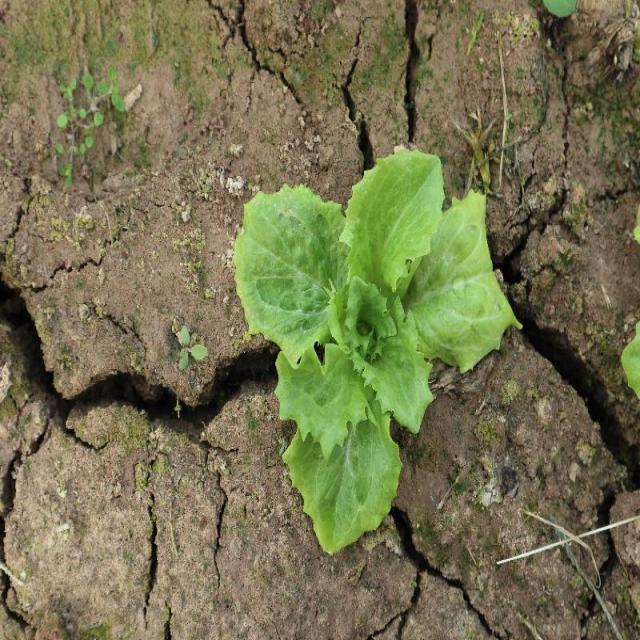crop: (232, 145, 519, 559)
